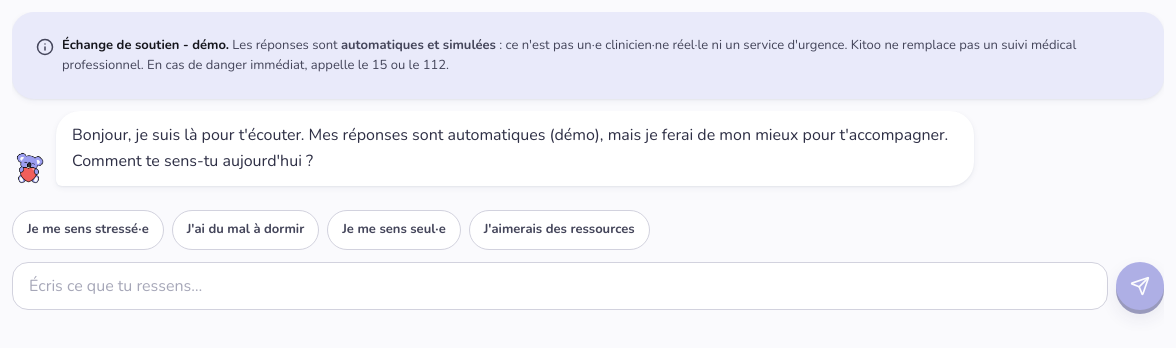
Test: ChatScreen - étiquetage & envoi › envoie un message et affiche la réponse simulée
Type "bonjour" into the field named "écris ton message". click: (560, 286)
box: [12,262,1108,310]
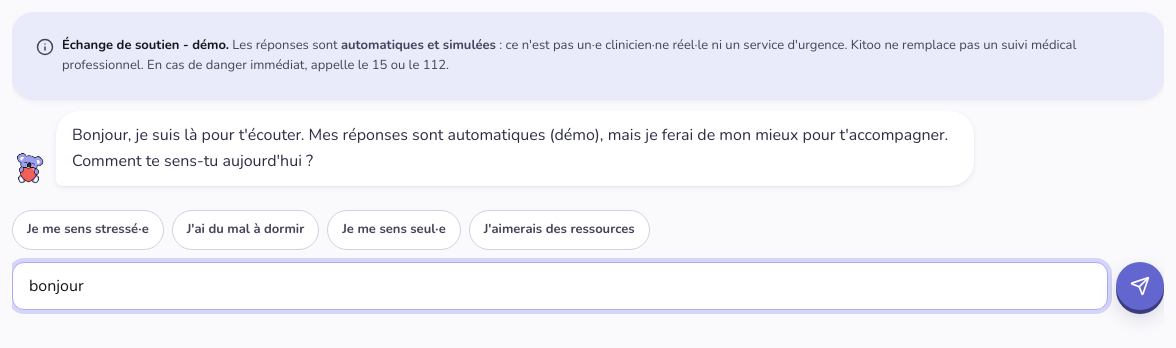
Click the button named "Envoyer". click: click(1140, 286)
box: [1116,262,1164,310]
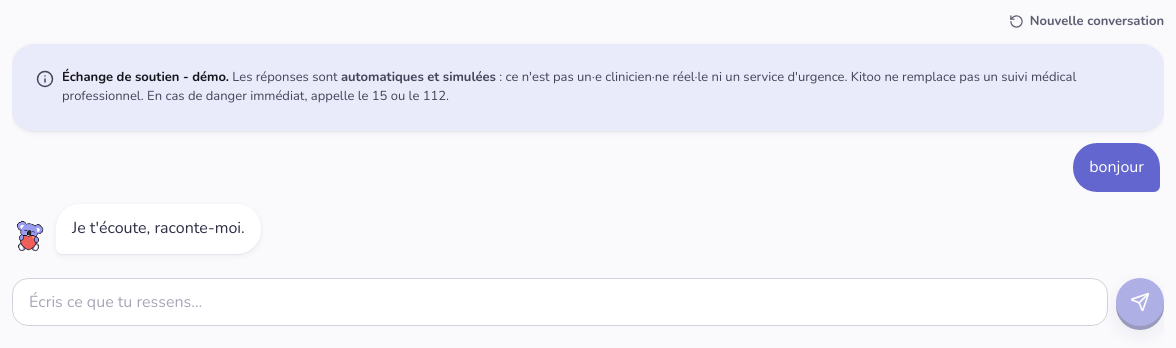
expect the text "bonjour" is shown: met, box [1089,154,1144,180]
expect the text "Je t'écoute, raconte-moi." is shown: met, box [72,216,245,242]
